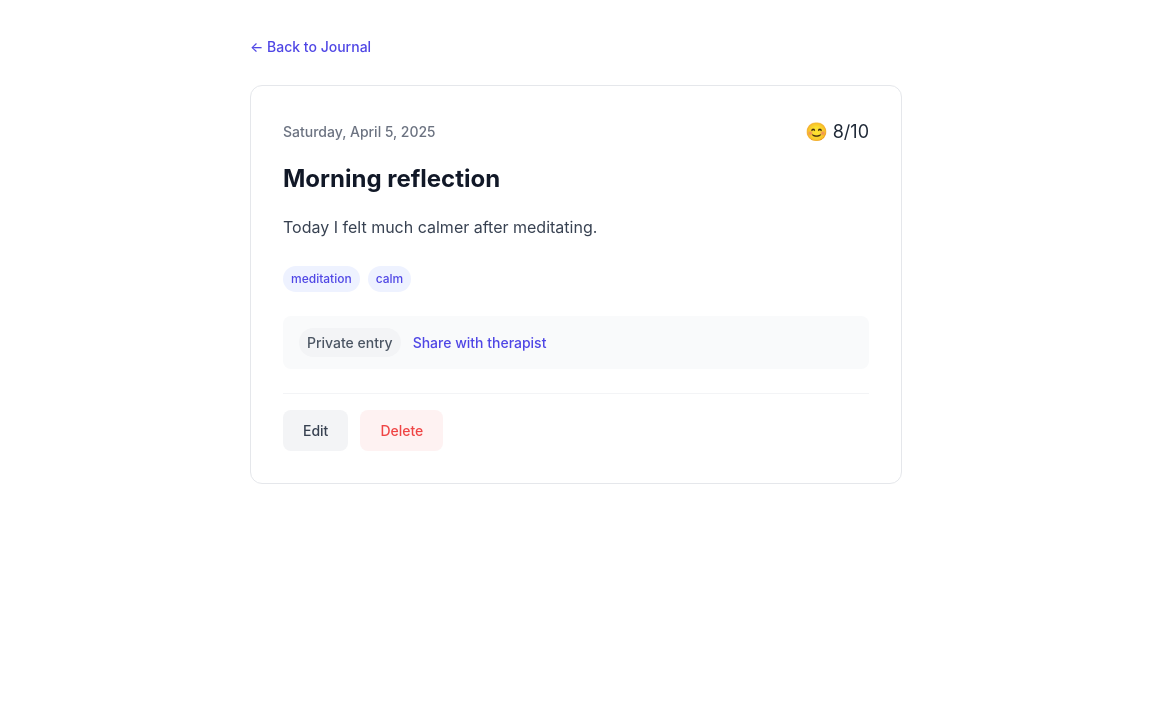
JournalDetailView › opens delete confirmation modal when Delete is clicked
The width and height of the screenshot is (1152, 720).
Click the button with class "btn-danger".
click(402, 431)  # box [360,410,443,451]
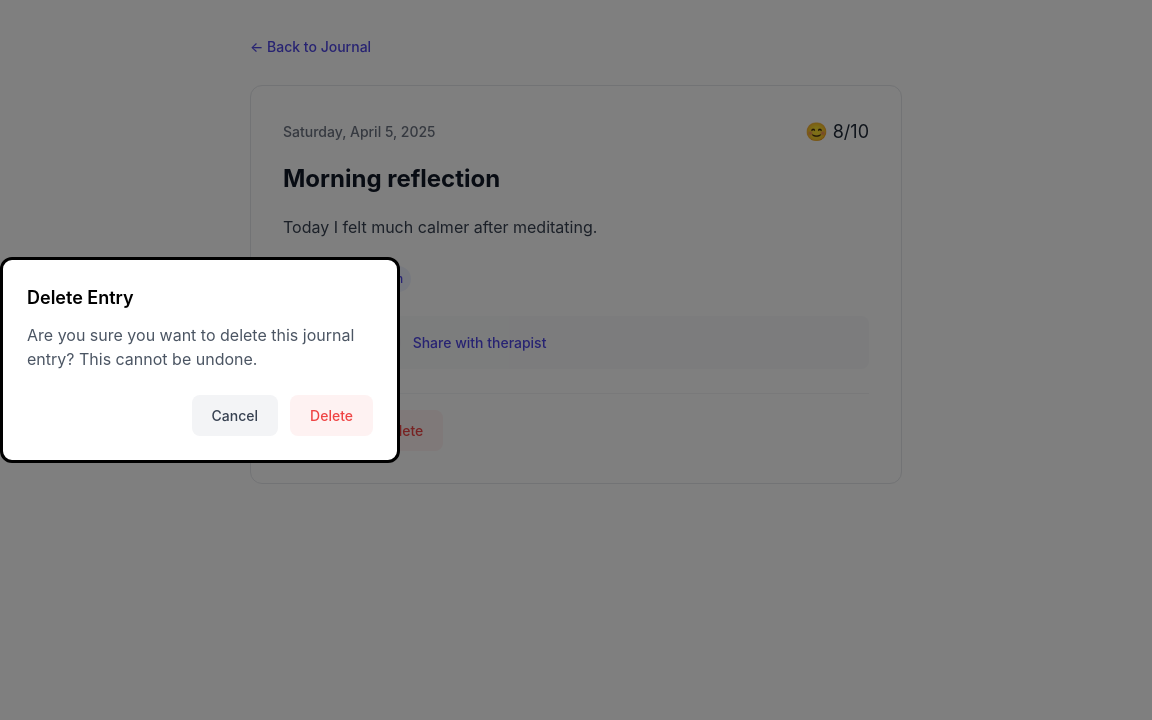
Expected: the element with class "modal-overlay" is shown
Expected: the text "Delete Entry" is shown, [27,287,134,308]
